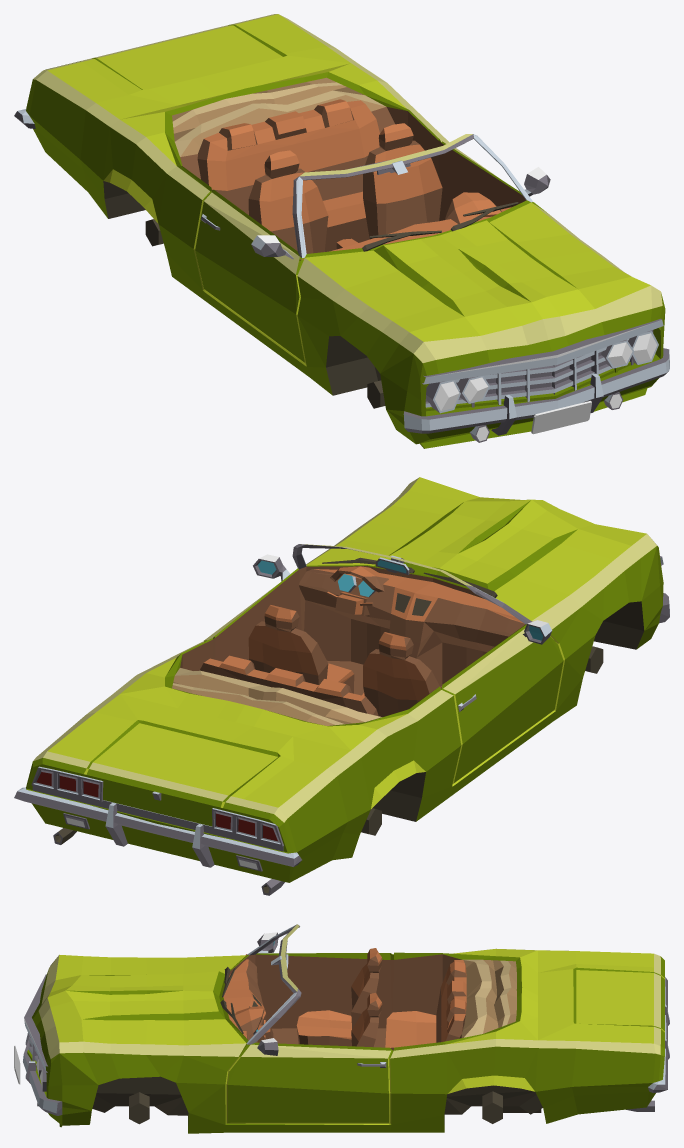
File: LORI.fbx
3 views of the same model, one above another, from view 1: azimuth 30°, elevation 25°; view 2: azimuth 150°, elevation 25°; view 3: azimuth 270°, elevation 25° (orthographic). The views are drawn at different scales.
Parts seen in each view (by area): view 1: LORI_BOD, SM_Veh_Car_Muscle_Plates; view 2: LORI_BOD; view 3: LORI_BOD.
Part boxes in pixels (bbox=[...]): LORI_BOD: bbox=[14, 14, 669, 448]; SM_Veh_Car_Muscle_Plates: bbox=[531, 400, 591, 434]; LORI_BOD: bbox=[14, 477, 669, 895]; LORI_BOD: bbox=[23, 924, 669, 1133].
Size of the model in its own units: 204 by 112 by 498.
